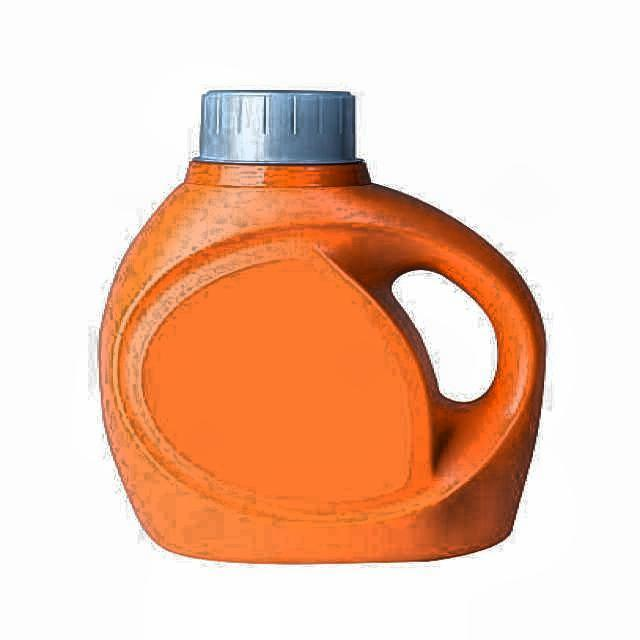plastic: (98, 88, 546, 567)
